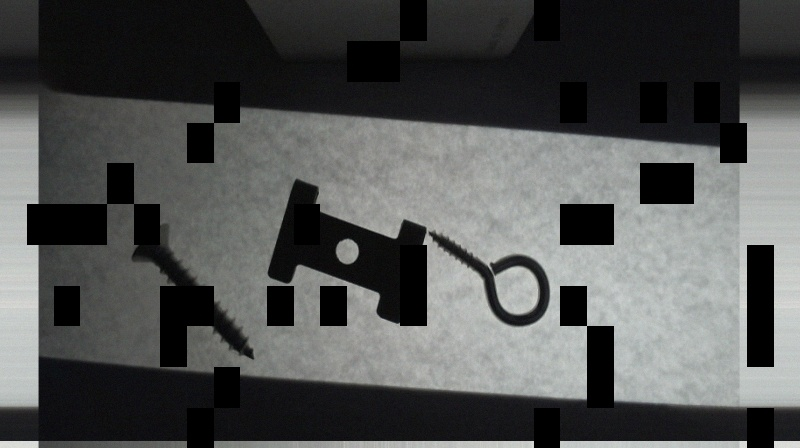O001: (428, 229, 551, 329)
O002: (268, 178, 425, 324)
S001: (130, 222, 256, 361)
